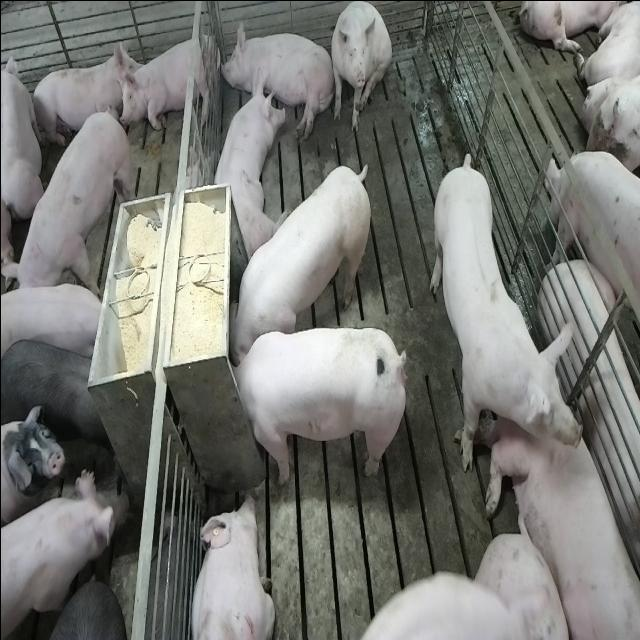Feeding: (228, 160, 376, 360), (230, 324, 411, 484)
Lateral_lying: (218, 19, 334, 141)
Sitting: (328, 2, 391, 134)
Standing: (430, 148, 582, 472), (7, 103, 132, 303), (2, 465, 126, 640), (546, 153, 640, 352), (1, 335, 112, 463), (0, 276, 114, 363)
Sternal_lying: (488, 363, 640, 634), (206, 69, 282, 259), (186, 490, 274, 640), (29, 40, 134, 153), (122, 32, 214, 134)
